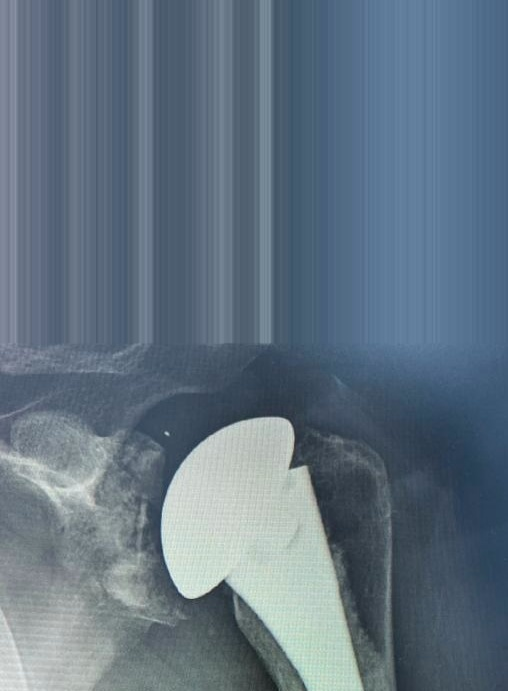Shoulder - Anotomical - Stryker: (150, 408, 346, 603)
